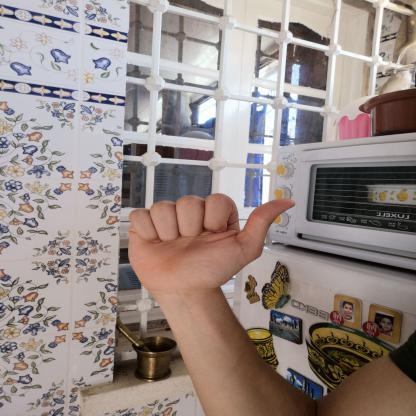DAD: (113, 184, 307, 304)
